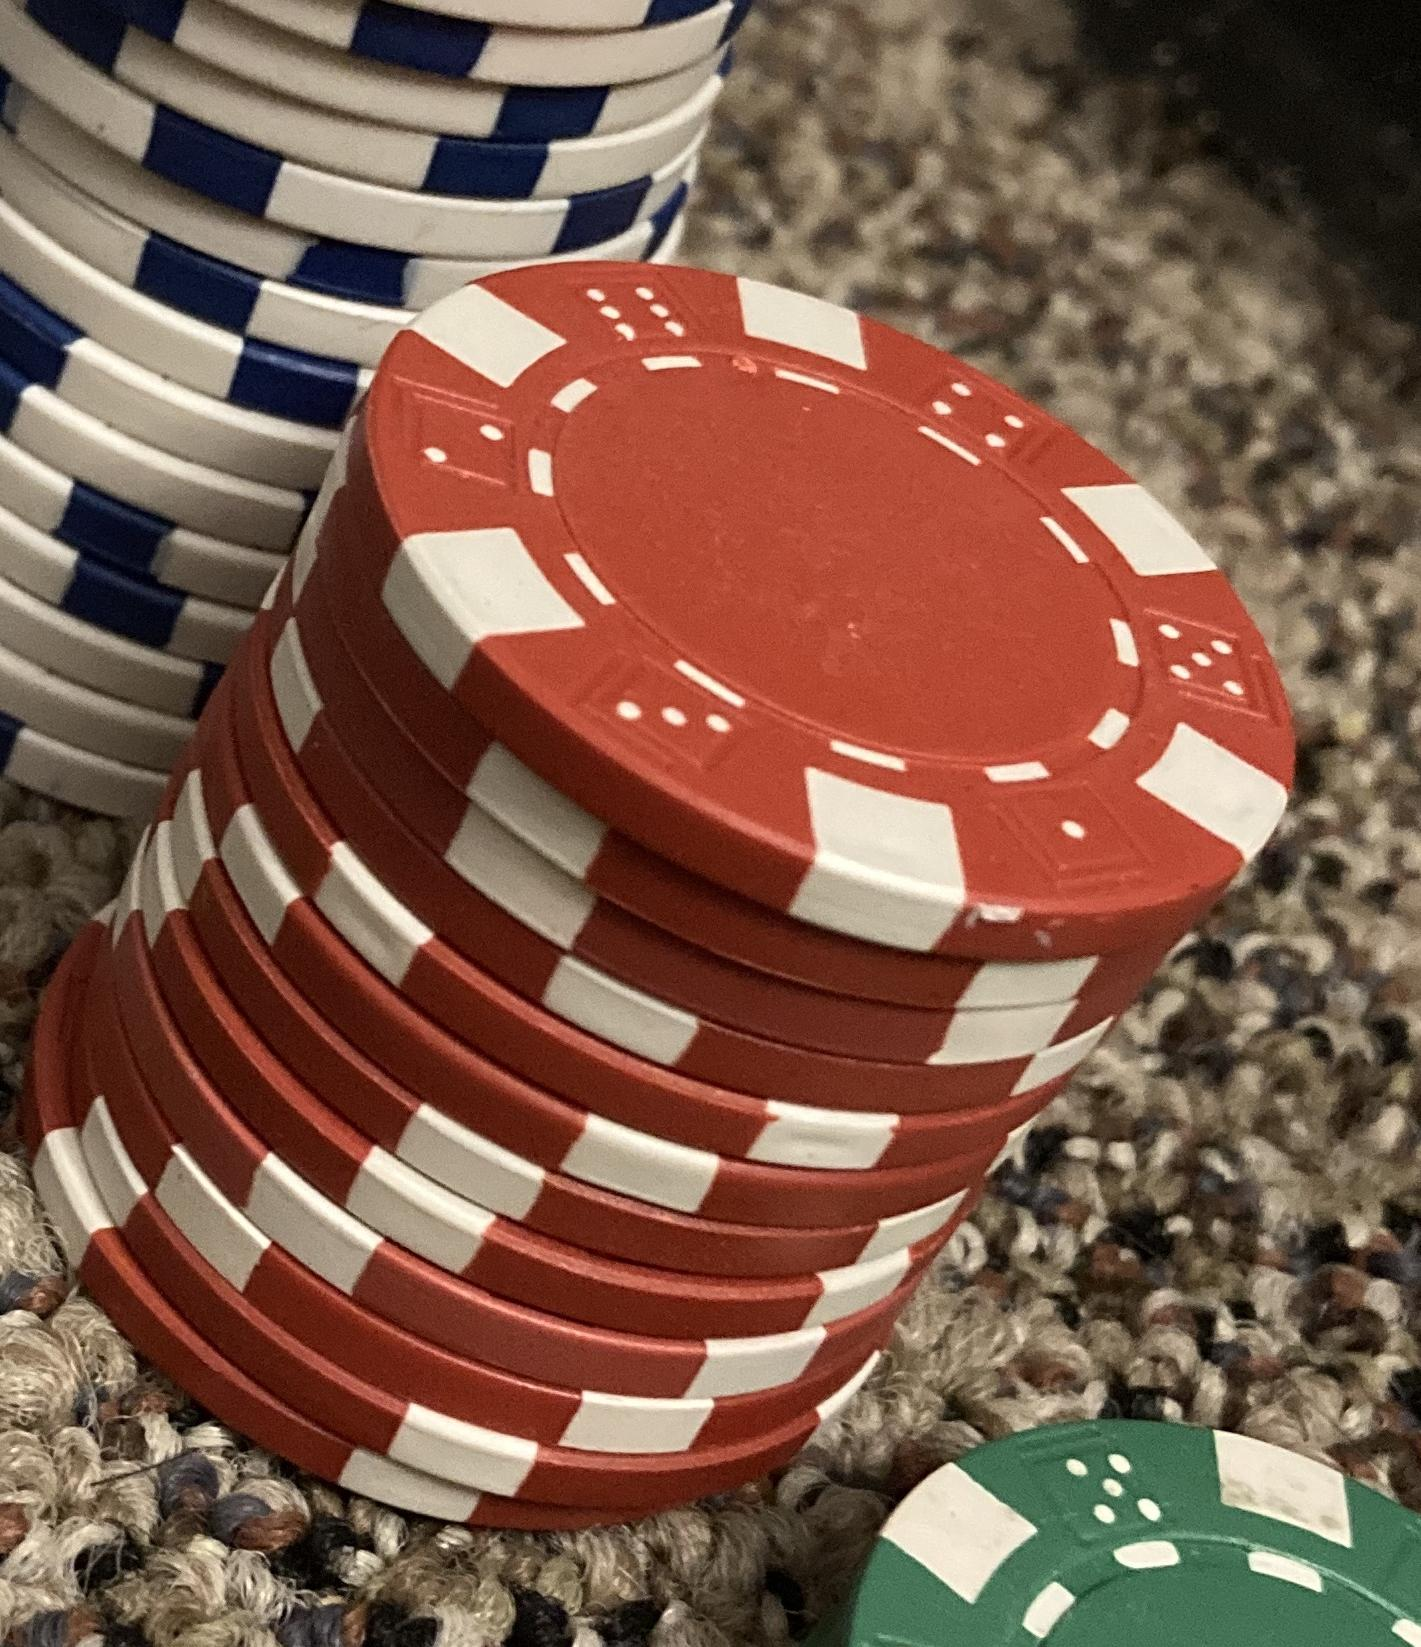Chip: (1, 1, 1421, 1647)
